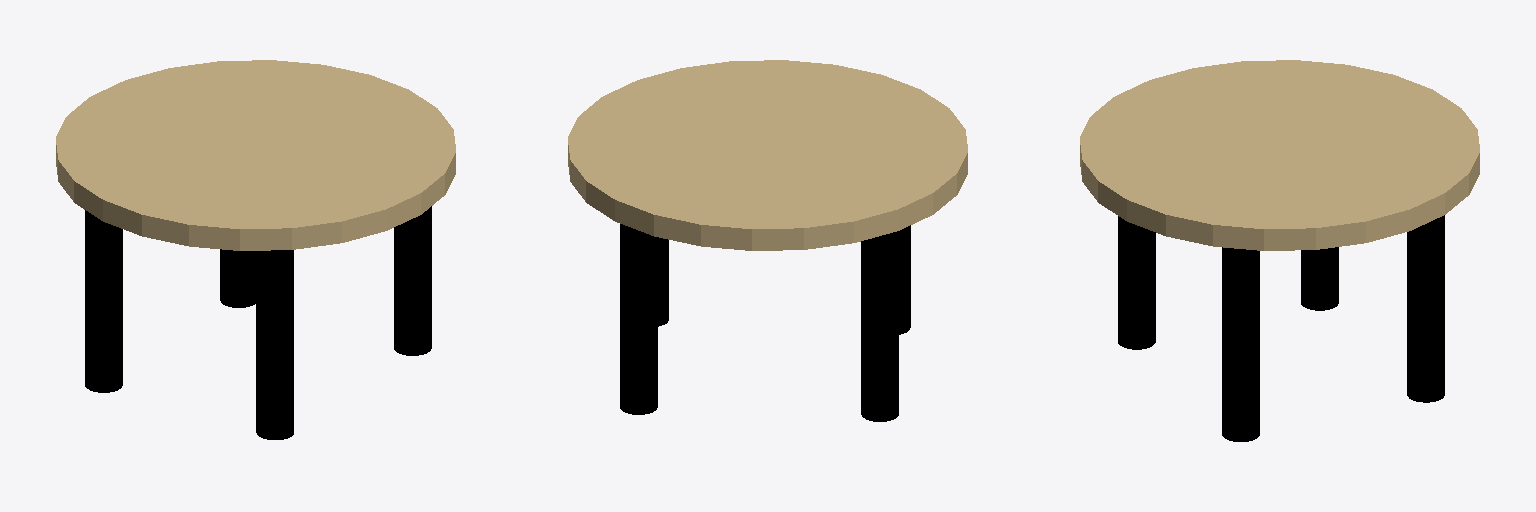
File: chair.obj
3 renders of one model, left to right at view 1: azimuth 30°, elevation 25°; view 2: azimuth 150°, elevation 25°; view 3: azimuth 270°, elevation 25°, orthographic.
Parts seen in each view (by area): view 1: Mesh5 Model, Mesh4 Model, Mesh2 Model, Mesh3 Model, Mesh1 Model; view 2: Mesh5 Model, Mesh2 Model, Mesh1 Model, Mesh4 Model, Mesh3 Model; view 3: Mesh5 Model, Mesh3 Model, Mesh1 Model, Mesh4 Model, Mesh2 Model.
Part boxes in pixels (x1,y1,x2,y2): Mesh5 Model: (56, 60, 455, 250); Mesh4 Model: (256, 250, 293, 439); Mesh2 Model: (85, 210, 122, 392); Mesh3 Model: (394, 206, 431, 355); Mesh1 Model: (220, 249, 255, 307); Mesh5 Model: (568, 60, 967, 250); Mesh2 Model: (861, 231, 898, 421); Mesh1 Model: (620, 224, 657, 414); Mesh4 Model: (899, 225, 910, 334); Mesh3 Model: (658, 237, 668, 326); Mesh5 Model: (1080, 60, 1479, 250); Mesh3 Model: (1222, 247, 1259, 441); Mesh1 Model: (1407, 215, 1444, 402); Mesh4 Model: (1118, 216, 1155, 349); Mesh2 Model: (1301, 247, 1338, 310).
Size of the model in its own units: 74.01 by 45.35 by 74.01.